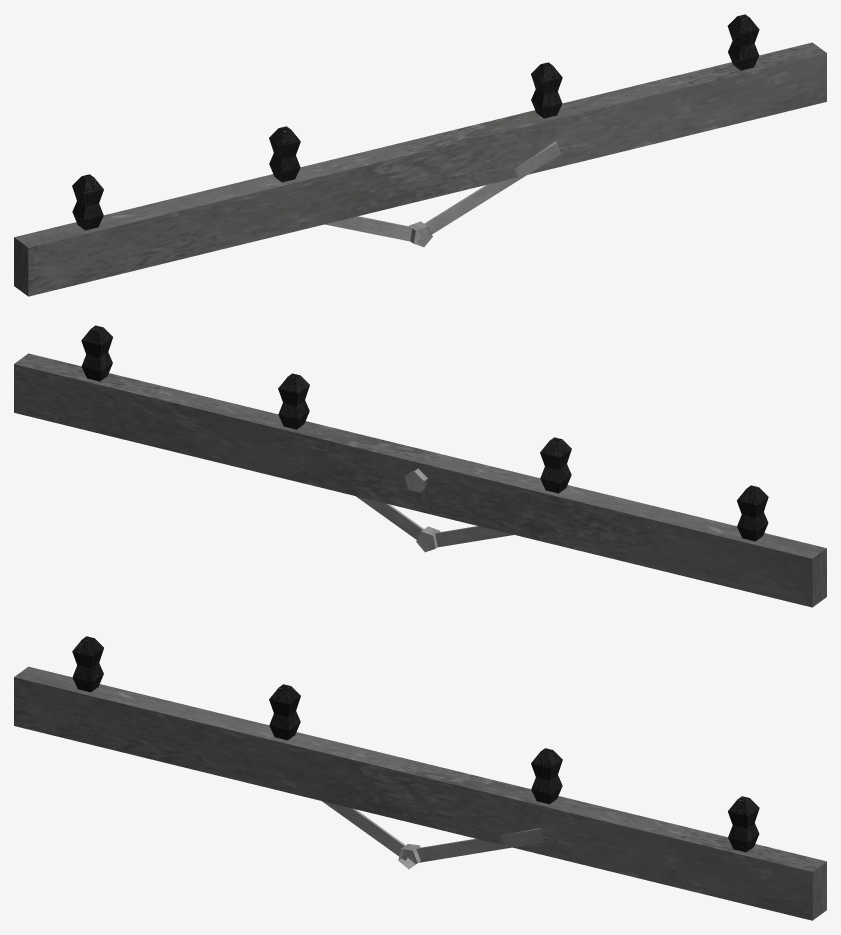
File: top_pole.glb
3 renders of one model, top to bottom at view 1: azimuth 30°, elevation 25°; view 2: azimuth 150°, elevation 25°; view 3: azimuth 330°, elevation 25°, orthographic.
Visible parts, largest first — view 1: TopPole_TopPole_0; view 2: TopPole_TopPole_0; view 3: TopPole_TopPole_0.
Boxes of the visible parts, bbox=[...] form: TopPole_TopPole_0: bbox=[14, 14, 826, 296]; TopPole_TopPole_0: bbox=[14, 325, 826, 607]; TopPole_TopPole_0: bbox=[14, 636, 826, 920].
Size of the model in its own units: 212 by 36.85 by 9.22.
Materials: 1 (1 with a texture image).
